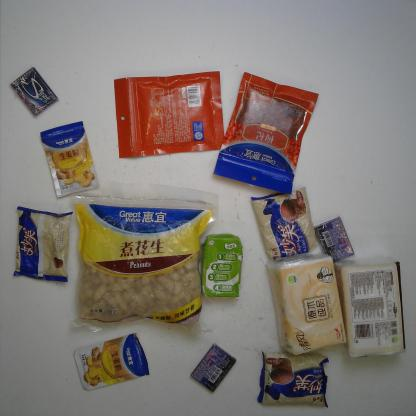Dessert: (250, 186, 323, 262), (8, 206, 74, 283), (255, 350, 331, 409)
Dried Food: (66, 190, 216, 338)
Dried Fruit: (214, 72, 320, 195), (111, 71, 225, 157)
Gum: (188, 342, 236, 398), (12, 66, 58, 117), (315, 215, 358, 266)
Milk: (198, 233, 248, 296)
Seasoner: (70, 332, 153, 389), (41, 118, 100, 198)
Tissue: (266, 250, 348, 360), (338, 257, 408, 361)
